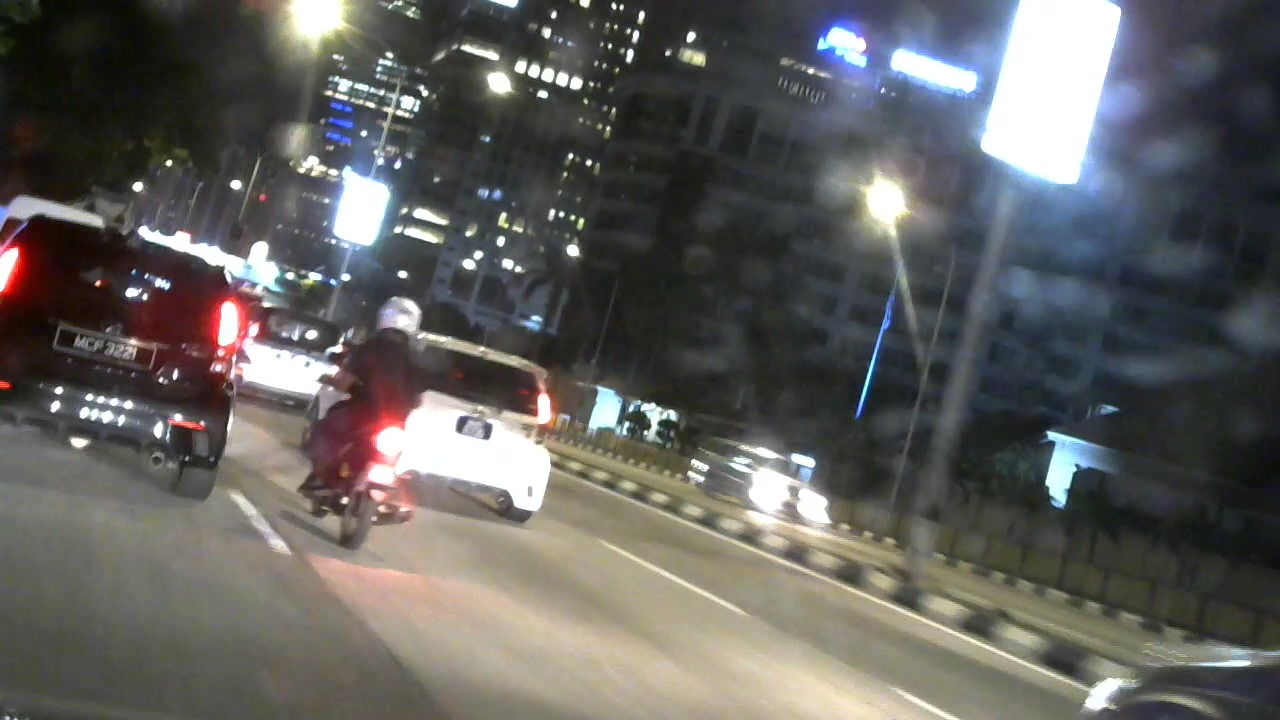Car: (1, 192, 245, 500), (323, 310, 567, 524), (1074, 637, 1277, 719), (239, 302, 340, 396)
